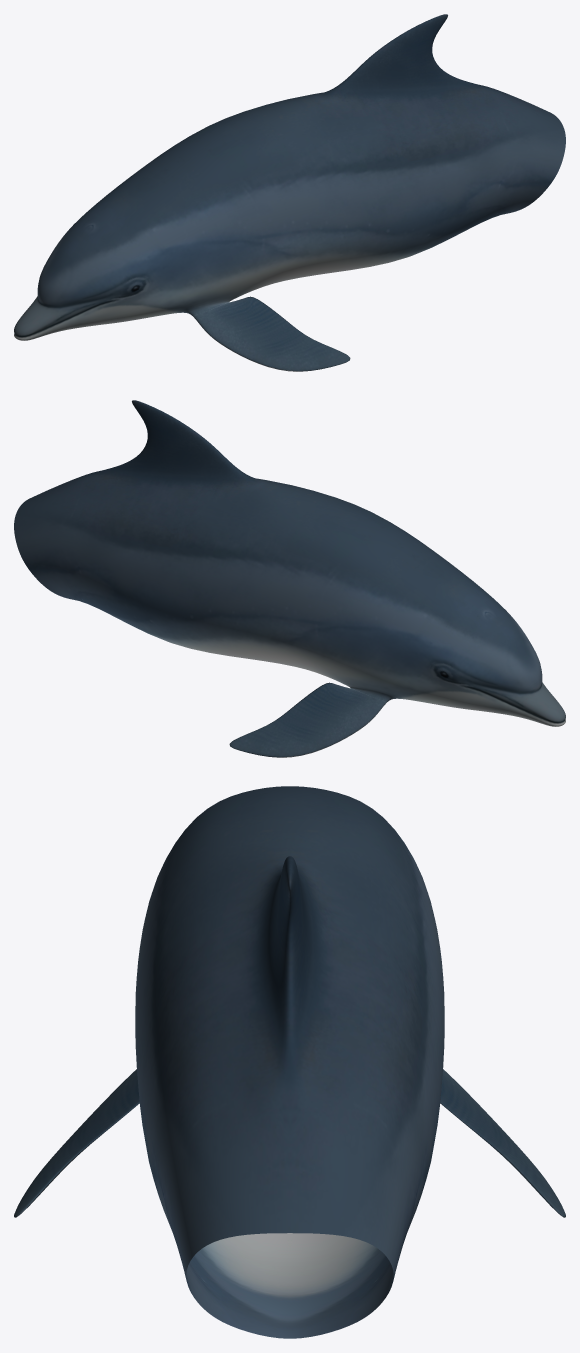
Rendered from cuerpoDelfin2.obj.
3 views of the same model, one above another, from view 1: azimuth 30°, elevation 25°; view 2: azimuth 150°, elevation 25°; view 3: azimuth 270°, elevation 25° (orthographic). The views are drawn at different scales.
Visible parts, largest first — view 1: cuerpoDelfin:dolphin; view 2: cuerpoDelfin:dolphin; view 3: cuerpoDelfin:dolphin.
Part boxes in pixels (x1,y1,x2,y2): cuerpoDelfin:dolphin: (14, 14, 565, 371); cuerpoDelfin:dolphin: (14, 400, 565, 757); cuerpoDelfin:dolphin: (14, 786, 565, 1338).
Bounding box in the file's own units: 9.66 × 4.42 × 4.4.
1 material, 1 textured.
